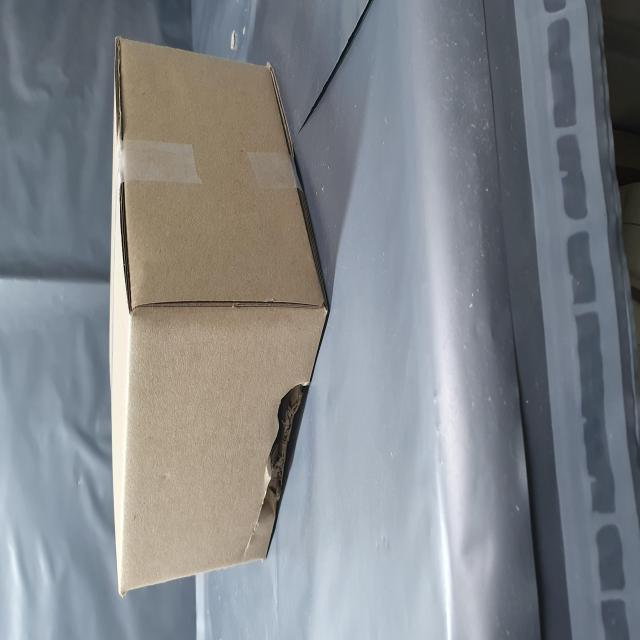damaged: (55, 468, 145, 541)
